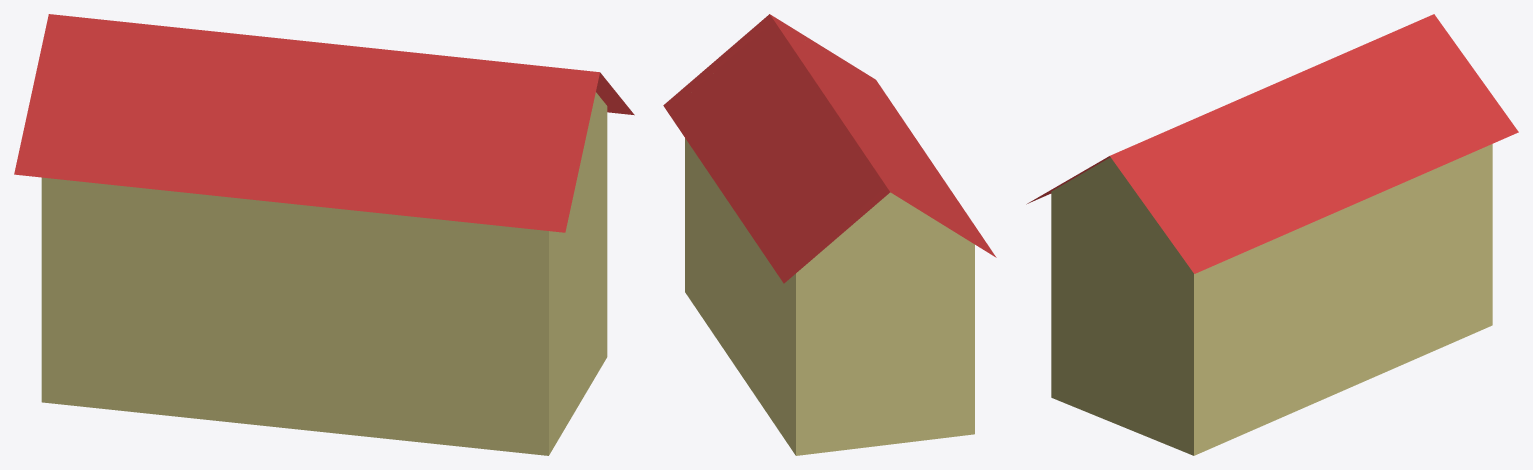
3 views of the same model, side by side, from view 1: azimuth 30°, elevation 25°; view 2: azimuth 150°, elevation 25°; view 3: azimuth 270°, elevation 25° (orthographic). The views are drawn at different scales.
Bounding box in the file's own units: 20.07 × 19.85 × 12.26.
